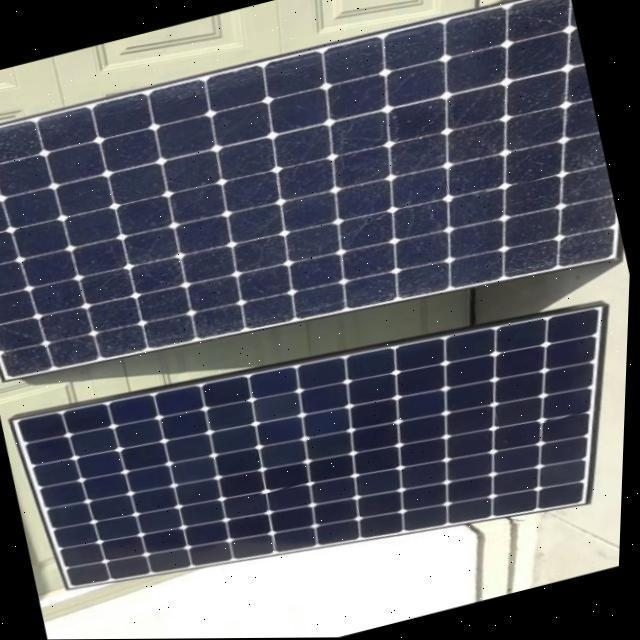Normal Solar Panel: (14, 276, 632, 635)
